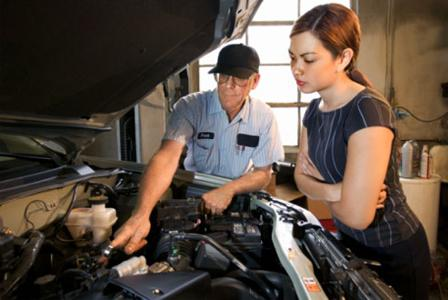person: (101, 43, 286, 261)
